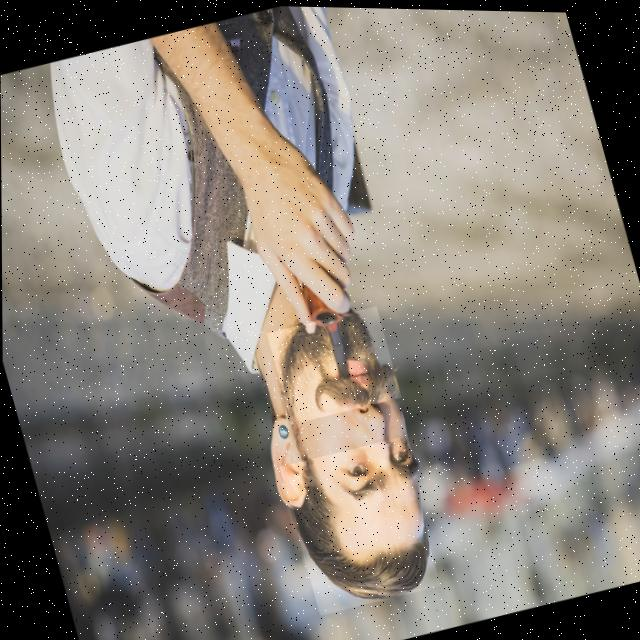beard: (291, 459, 427, 598)
hair: (278, 310, 395, 415)
